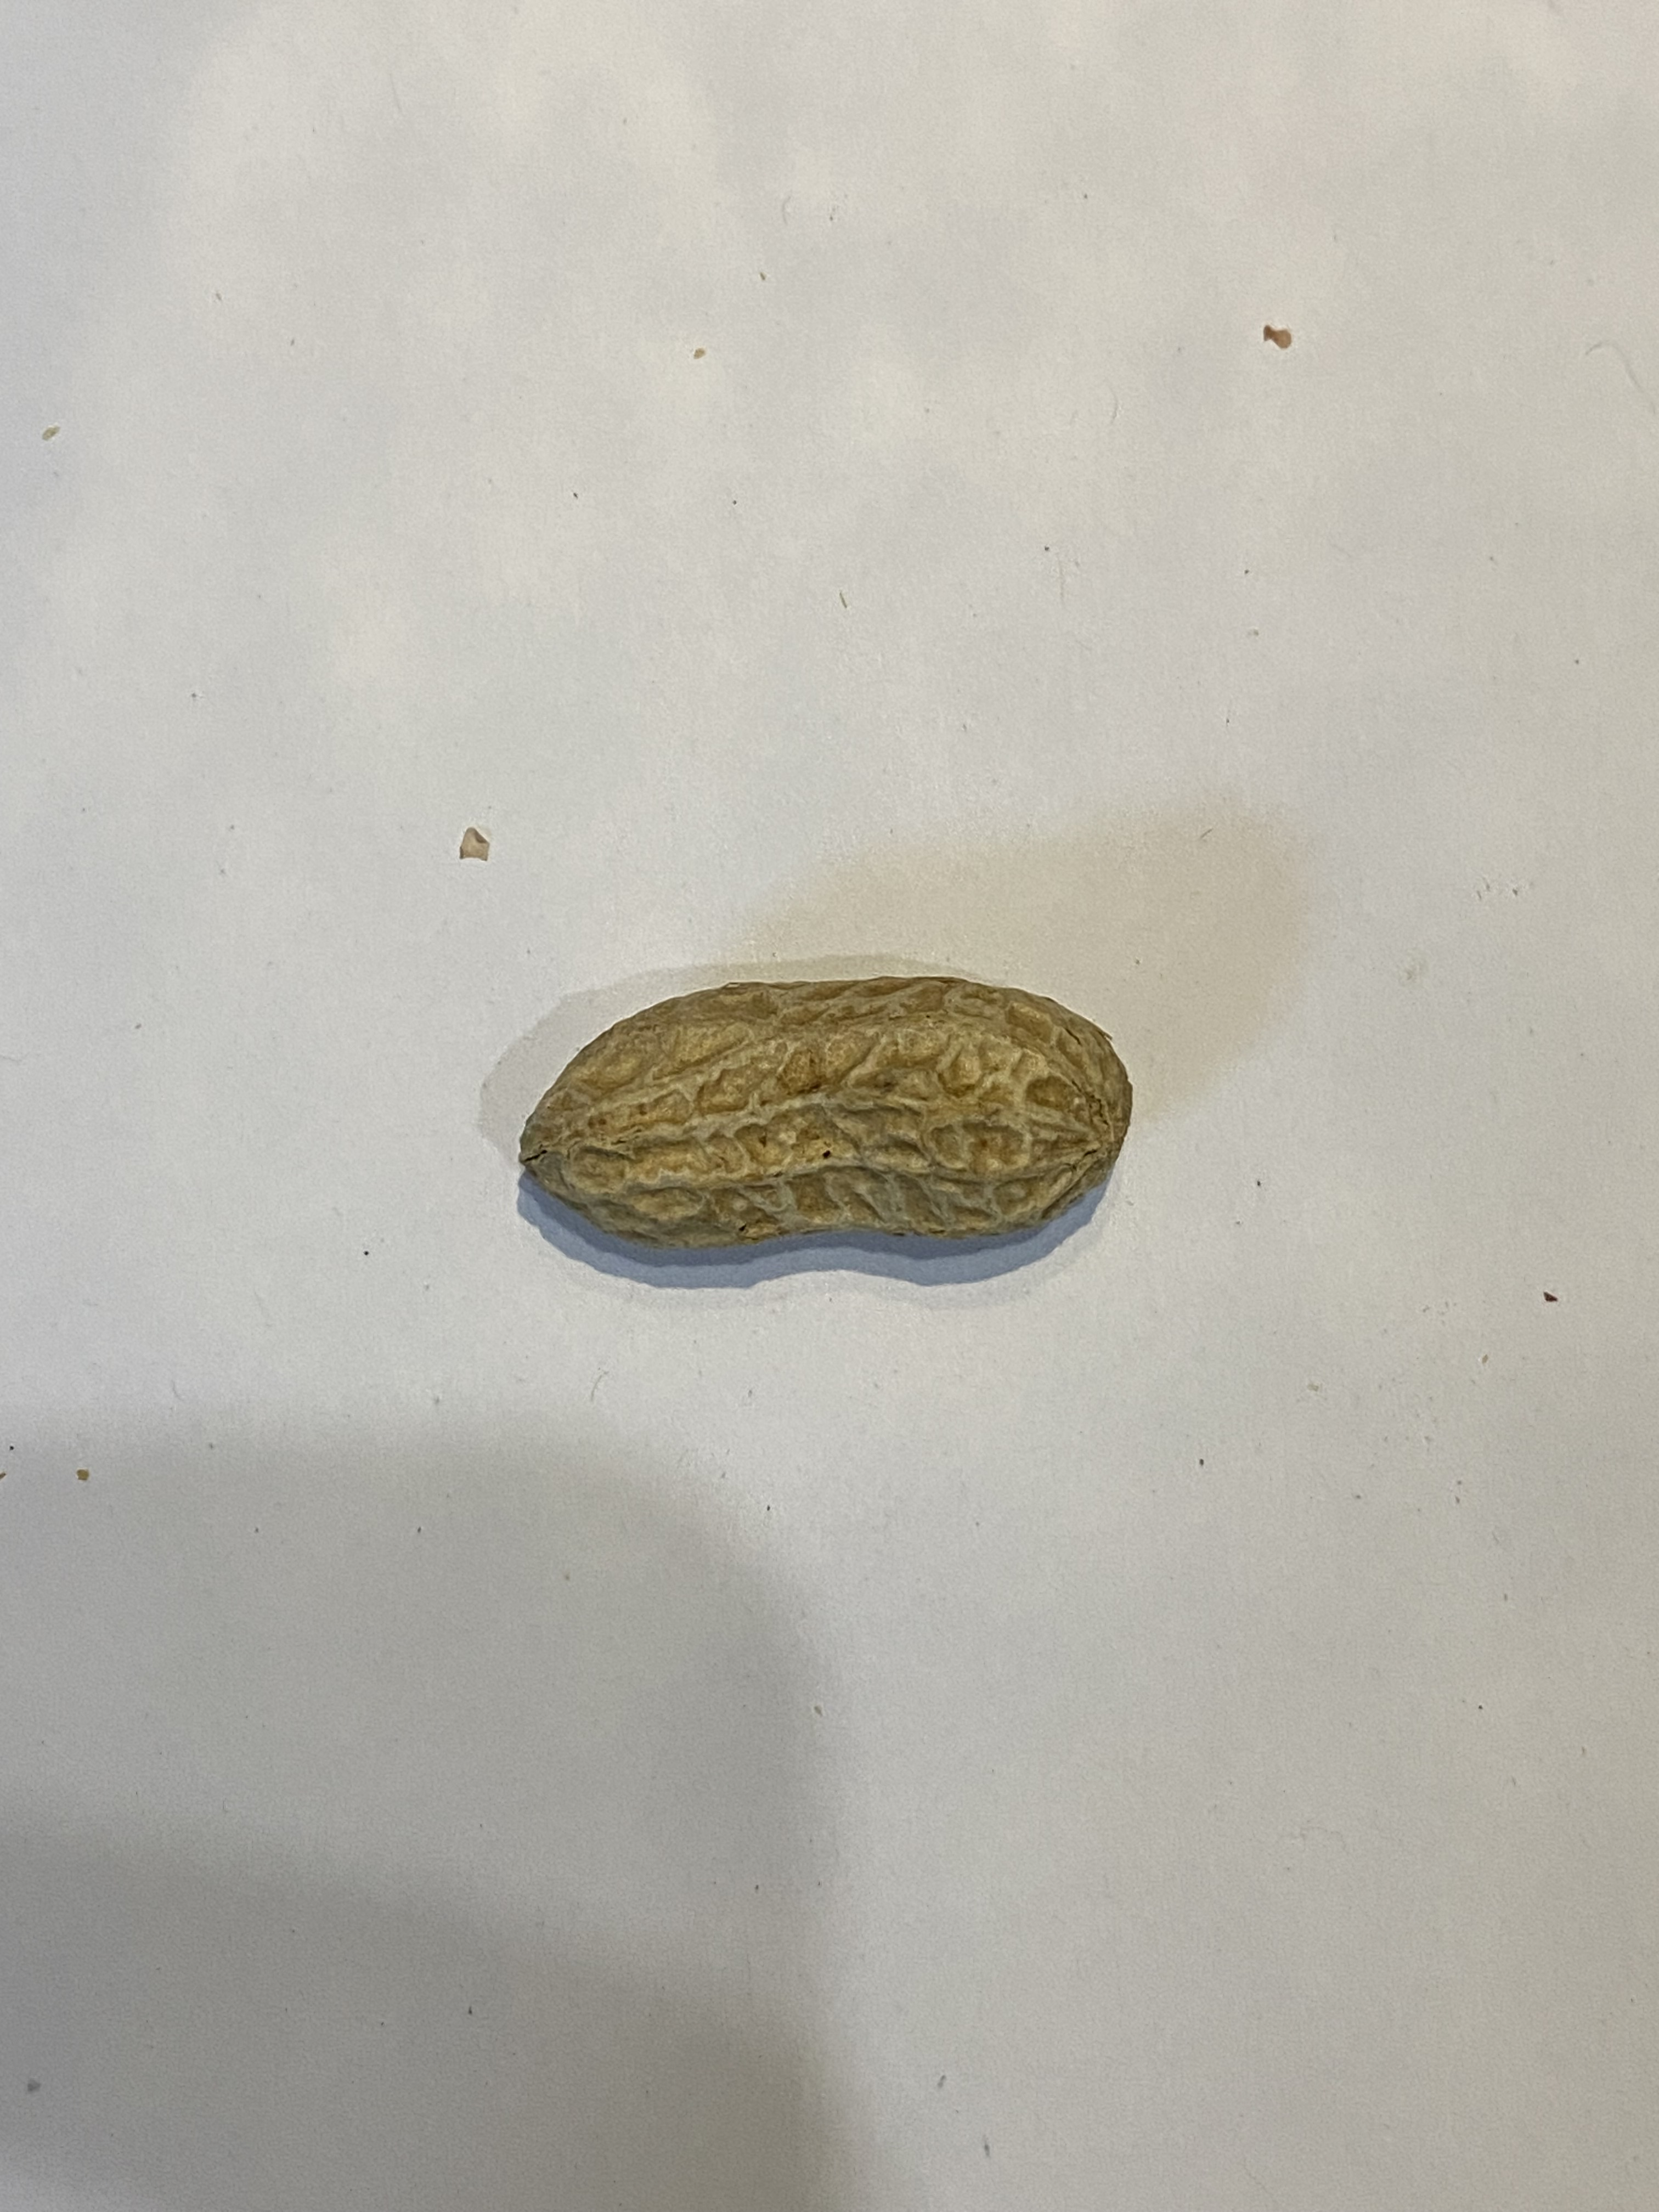kacang2: (498, 968, 1180, 1261)
